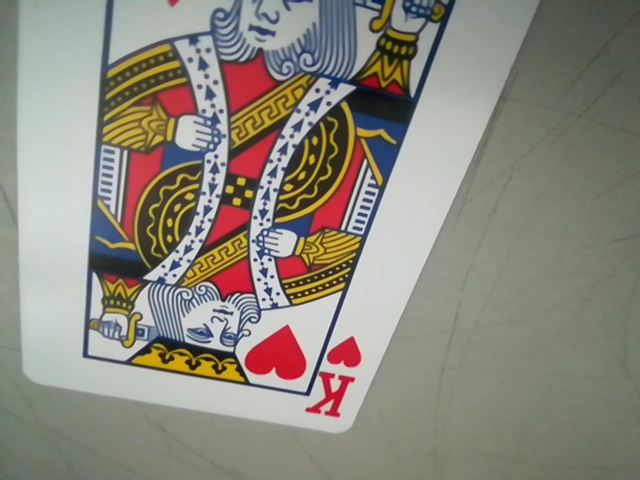hx k: (301, 337, 367, 425)
